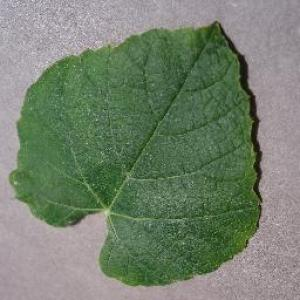Folha: (8, 19, 263, 287)
